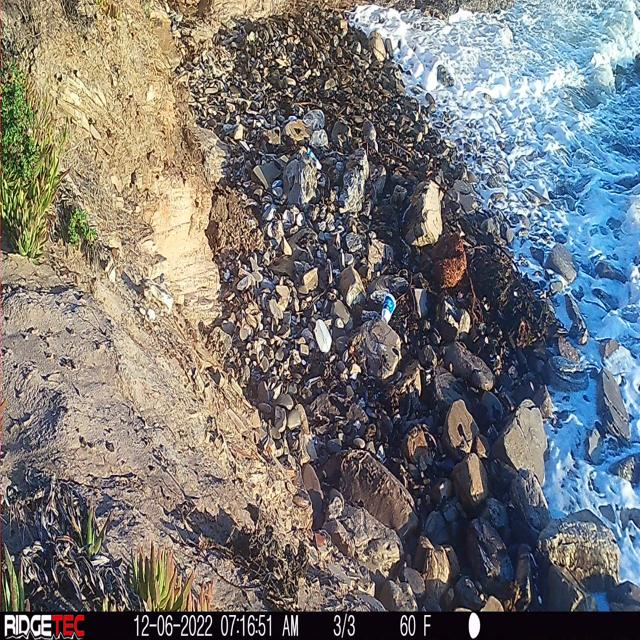bird: (357, 105, 388, 164)
